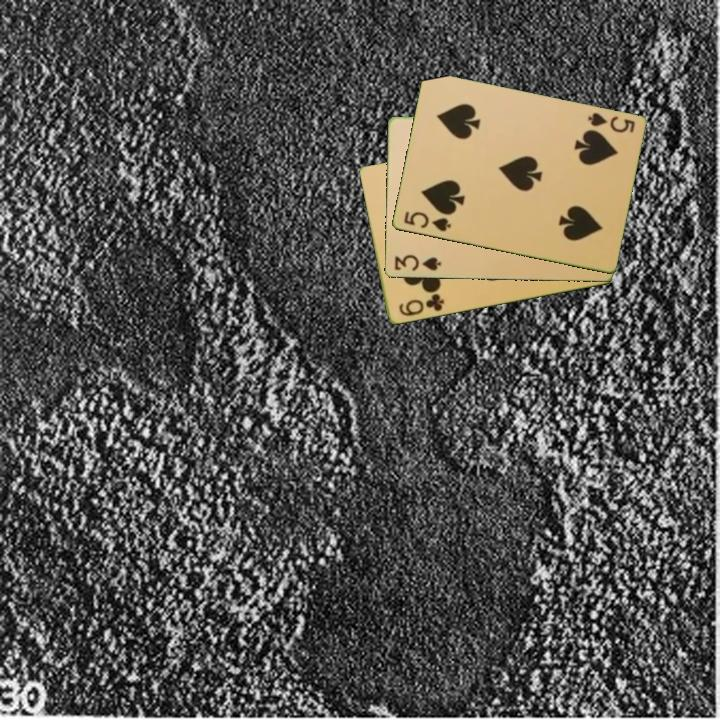3s: (391, 251, 444, 274)
5s: (400, 208, 453, 235), (584, 109, 637, 136)
6c: (395, 290, 447, 320)
